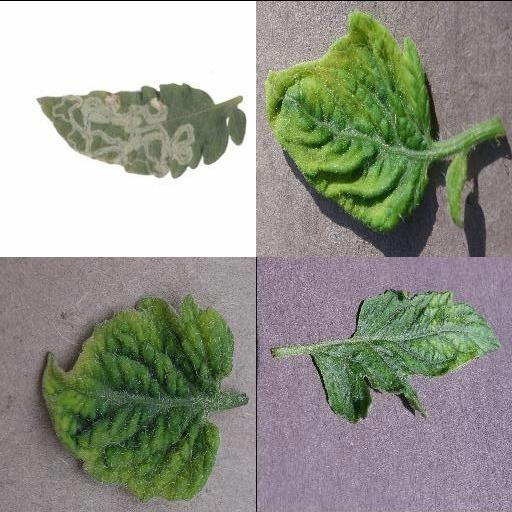Leaf Miner: (37, 82, 246, 180)
Mosaic Virus: (309, 290, 503, 426)
Yellow Leaf Curl Virus: (40, 295, 234, 501), (266, 11, 434, 229)
